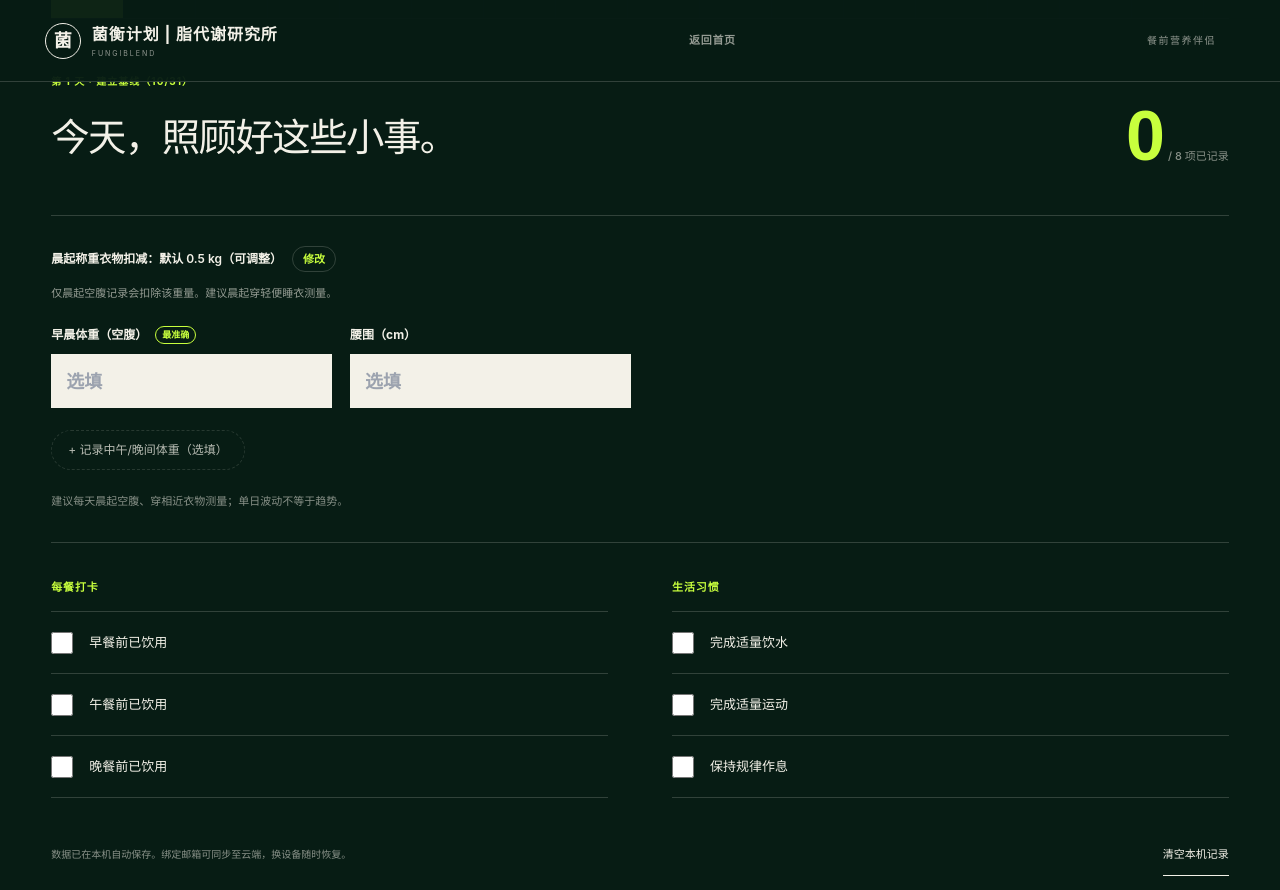
Test case: 极简体重记录与衣物扣减 › 收起其他时段后隐藏中晚输入但保留已记录数据
(page scrolled)
Click the button "+ 记录中午/晚间体重（选填）": (148, 450) x1=51 y1=430 x2=245 y2=470
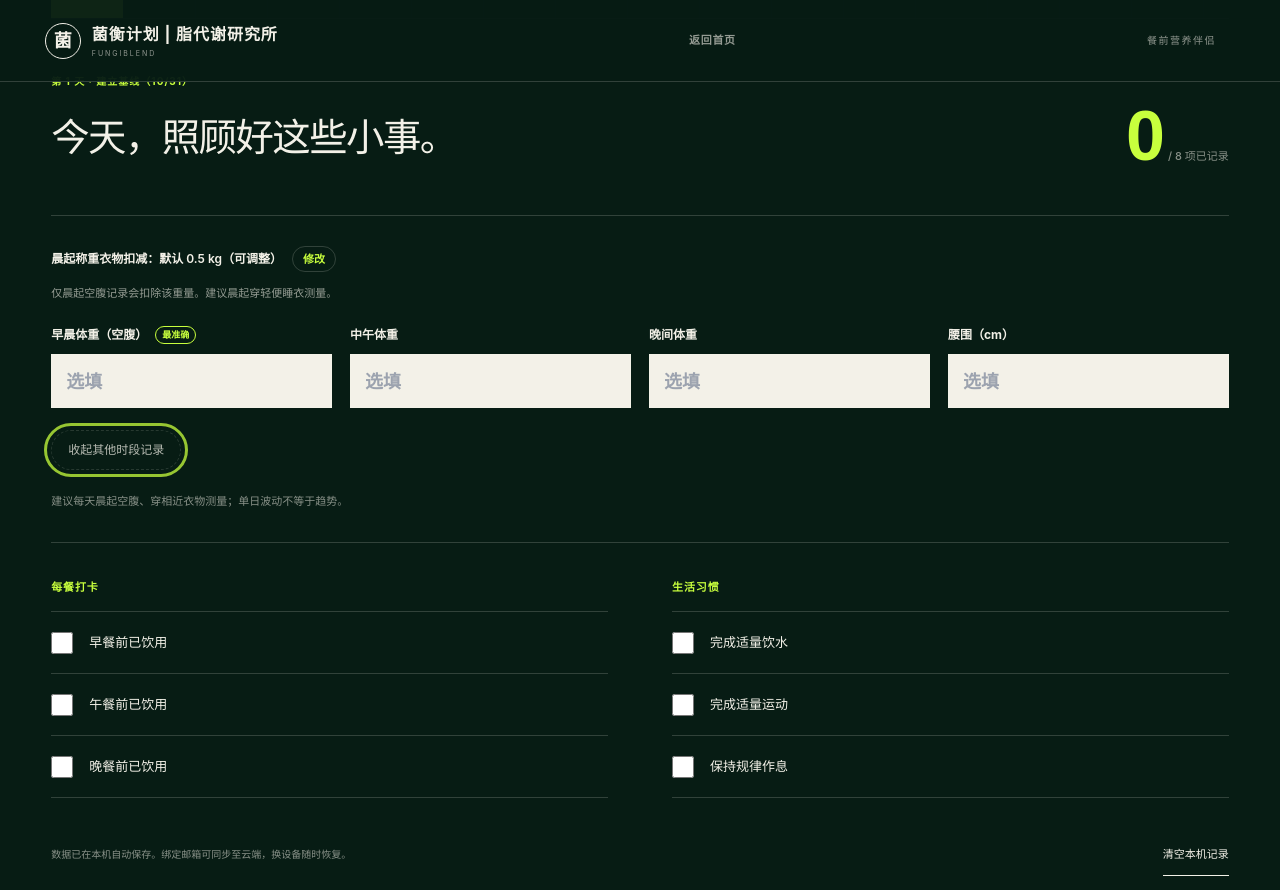
In the number field labelled "中午体重": (491, 381) x1=350 y1=354 x2=631 y2=408, type "68.4"
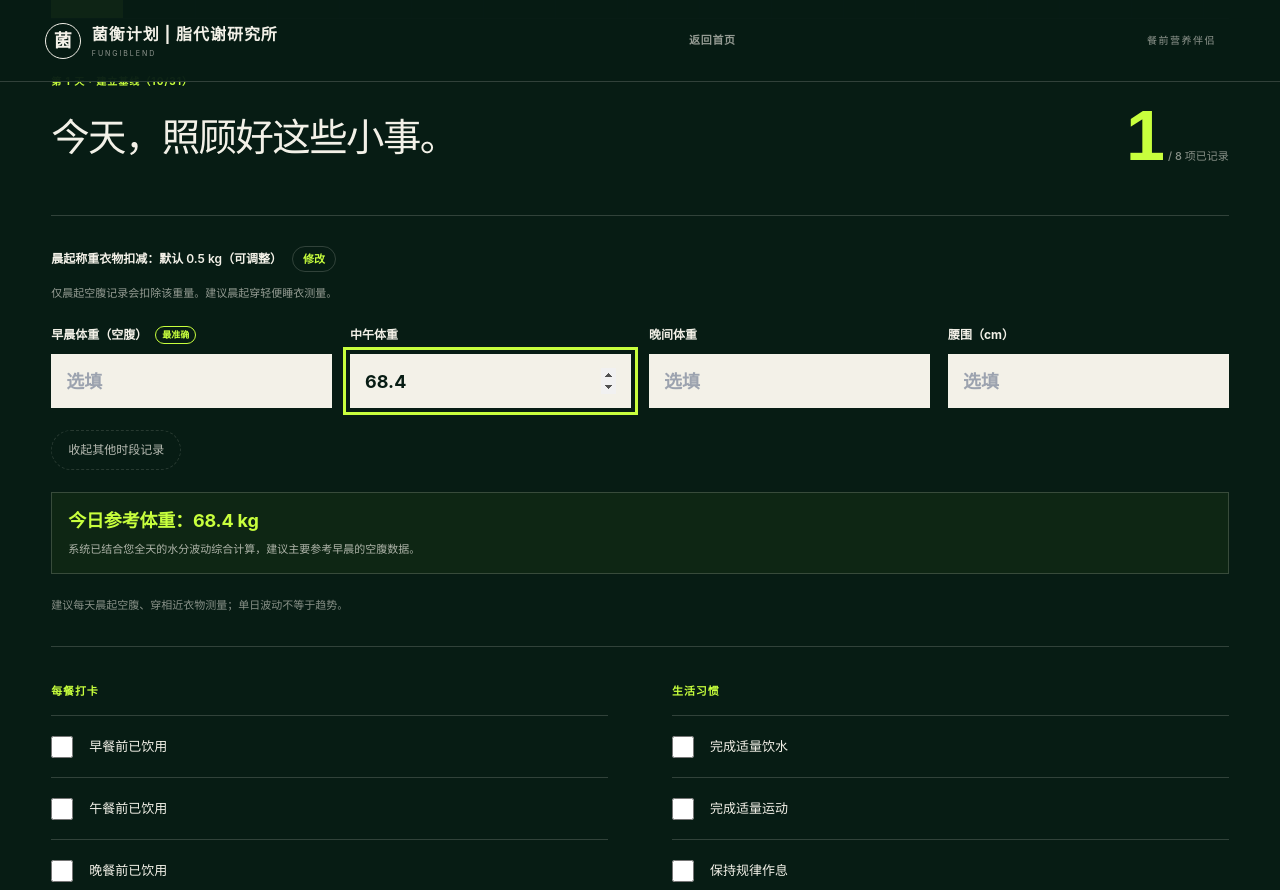
In the number field labelled "晚间体重": (789, 381) x1=649 y1=354 x2=930 y2=408, type "68.8"
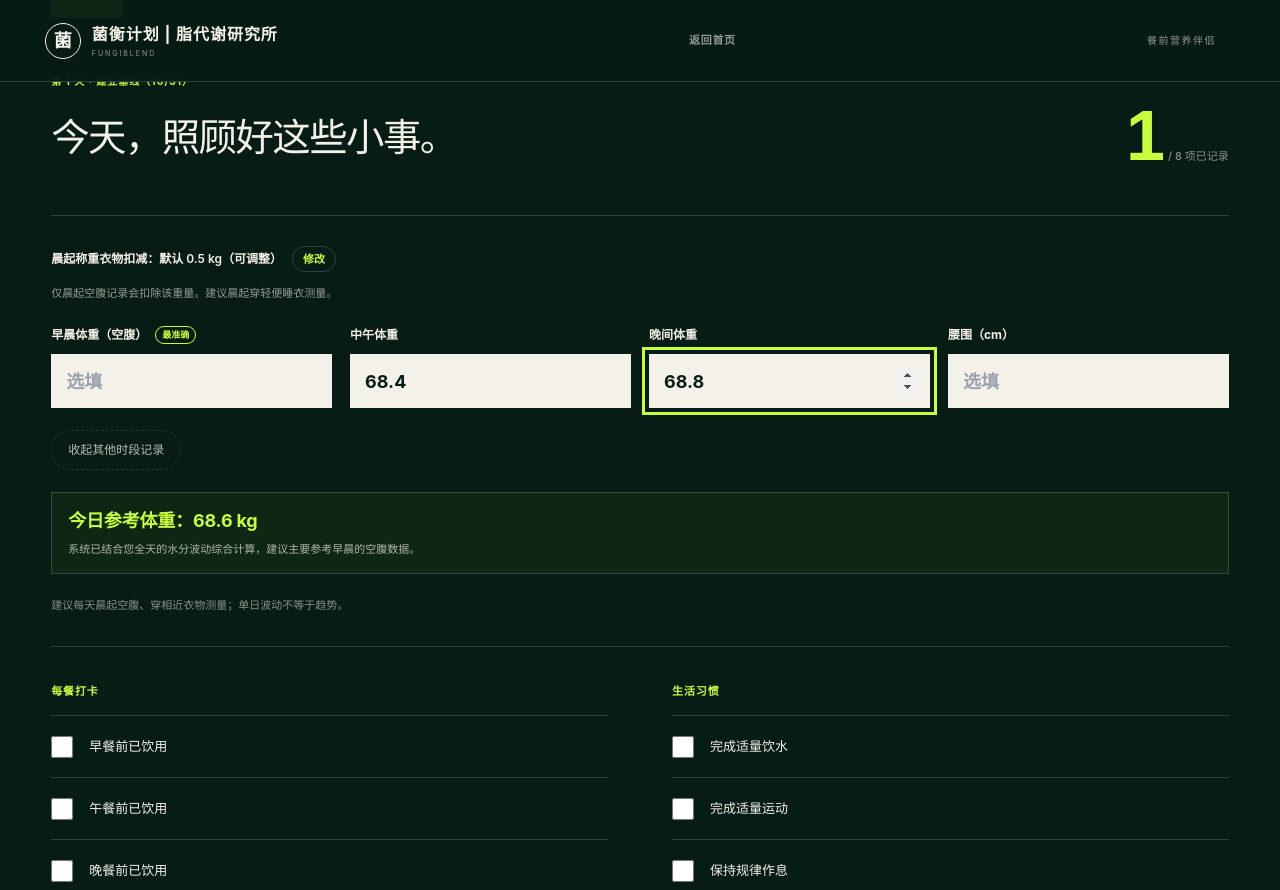
Click the button "收起其他时段记录": (116, 450) x1=51 y1=430 x2=181 y2=470
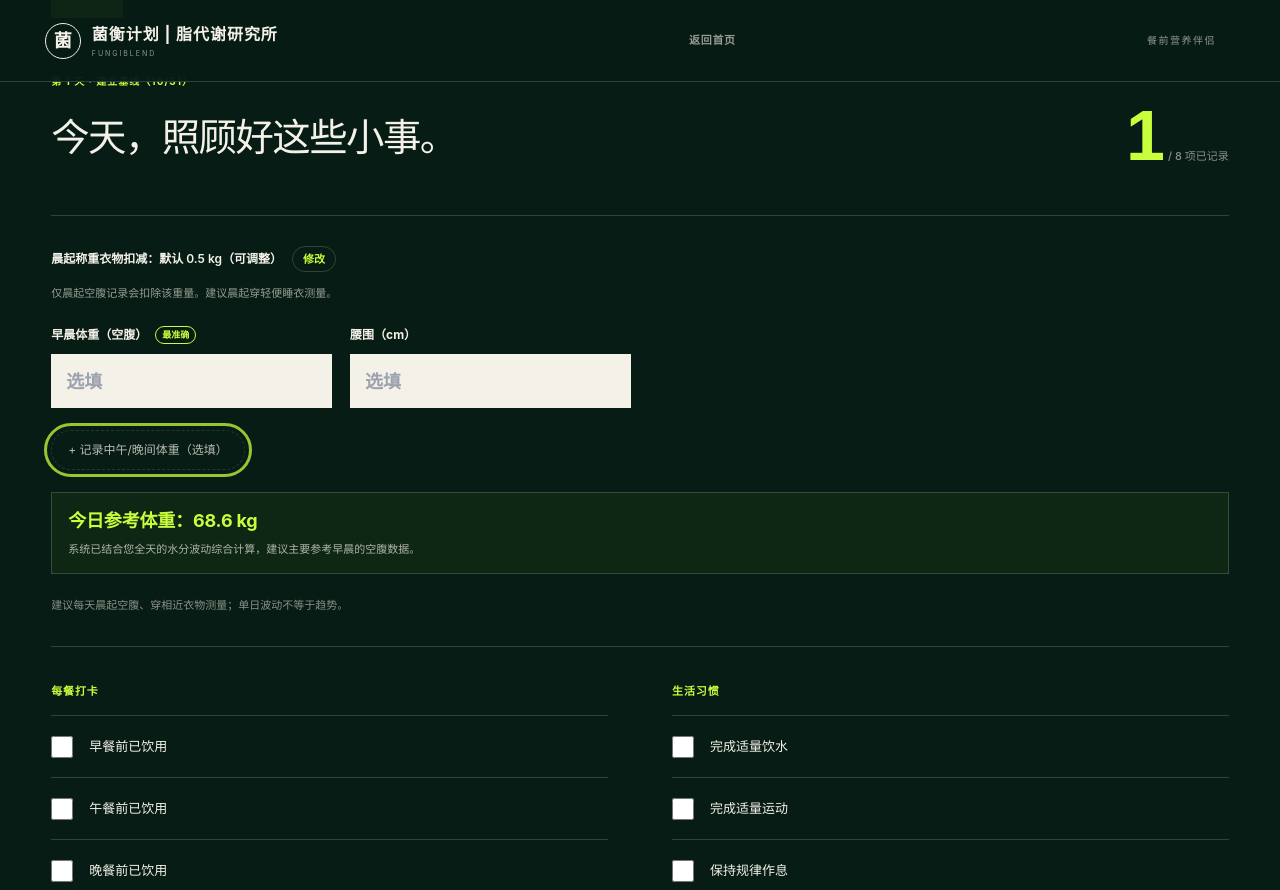
Check: the text labelled "中午体重" is gone
Click the button "+ 记录中午/晚间体重（选填）": (148, 450) x1=51 y1=430 x2=245 y2=470
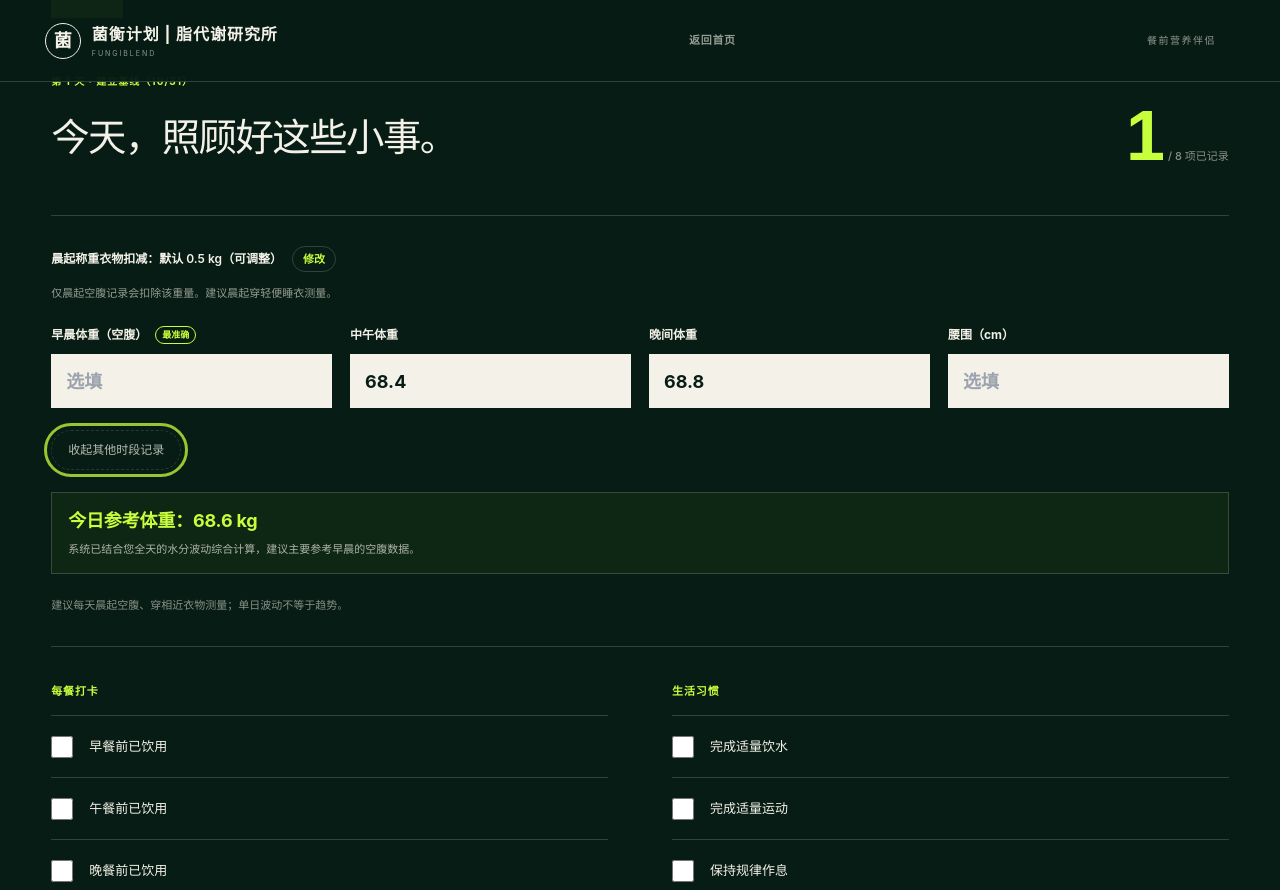
Check: the number field labelled "中午体重" holds "68.4", box x1=350 y1=354 x2=631 y2=408
Check: the number field labelled "晚间体重" holds "68.8", box x1=649 y1=354 x2=930 y2=408
